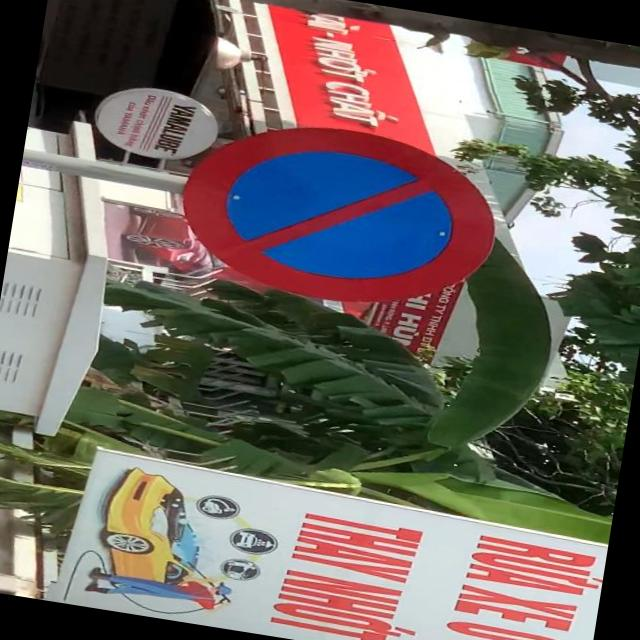P-131a: (170, 105, 507, 324)
